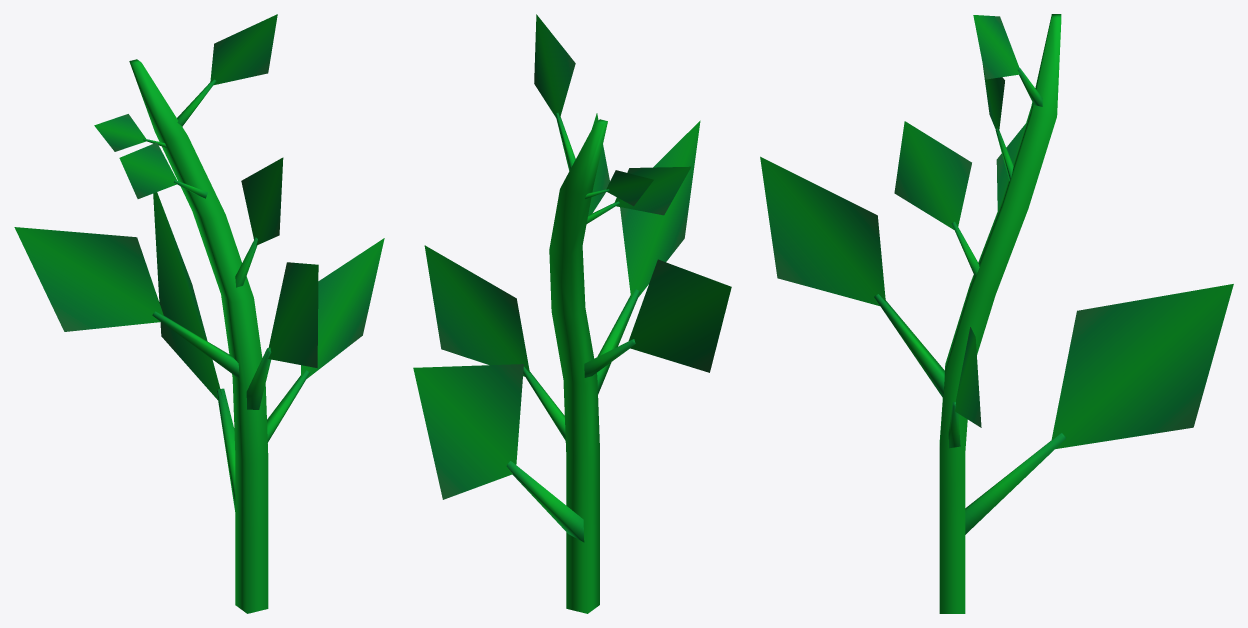
Rendered from grass_2.fbx.
3 views of the same model, side by side, from view 1: azimuth 30°, elevation 25°; view 2: azimuth 150°, elevation 25°; view 3: azimuth 270°, elevation 25° (orthographic). The views are drawn at different scales.
Parts seen in each view (by area): view 1: grass_2; view 2: grass_2; view 3: grass_2.
Boxes of the visible parts, x1,y1,x2,y2 form: grass_2: [14, 14, 384, 613]; grass_2: [413, 14, 731, 613]; grass_2: [760, 14, 1233, 613].
Size of the model in its own units: 134 by 220 by 154.
